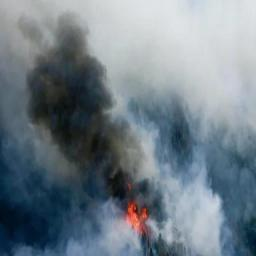Heavy smoke: (0, 0, 255, 255)
Medium fire: (105, 167, 167, 242)
